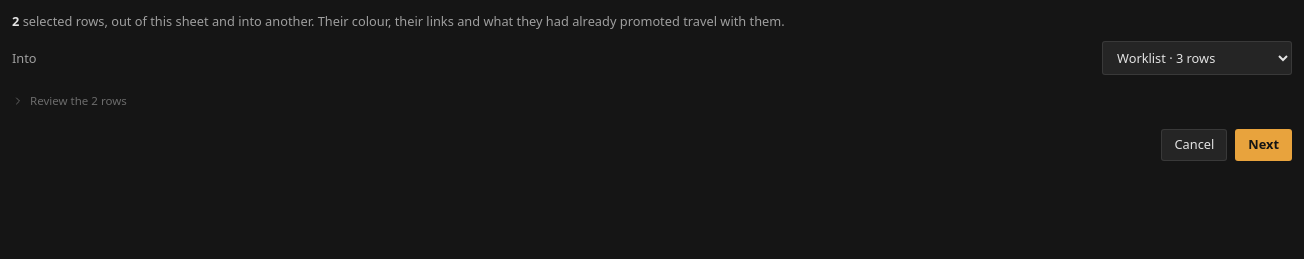
Test case: lining the columns up › proposes the exact name, guesses the one spelled differently, and says which
The image size is (1304, 259).
Click the button "Next". click: (1264,145)
box: [1235,130,1292,161]
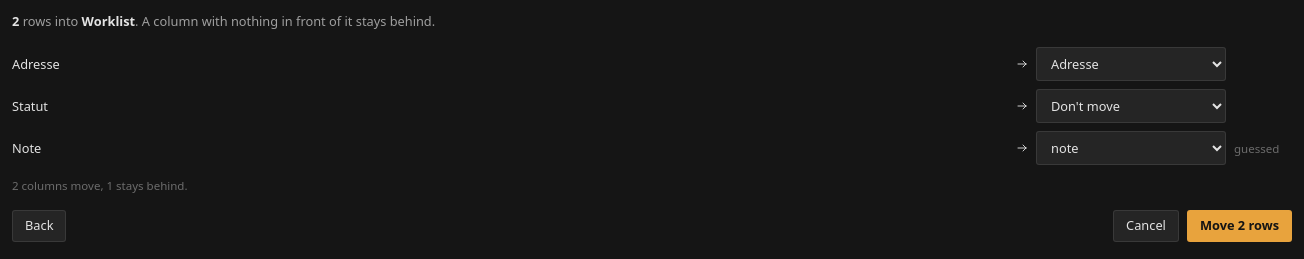
Expected: the dropdown named "Where Adresse lands" shows "Adresse", [1036,47,1226,81]
Expected: the dropdown named "Where Statut lands" shows "Don't move", [1036,89,1226,123]
Expected: the dropdown named "Where Note lands" shows "note", [1036,131,1226,165]
